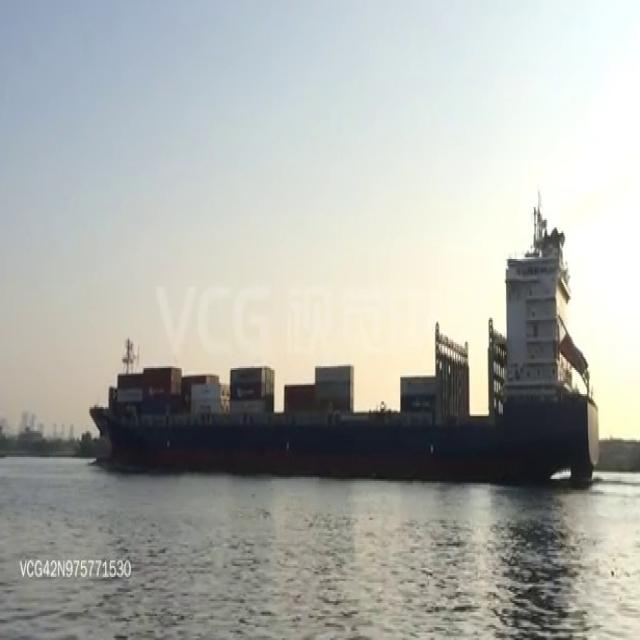cargoship: (103, 262, 592, 494)
